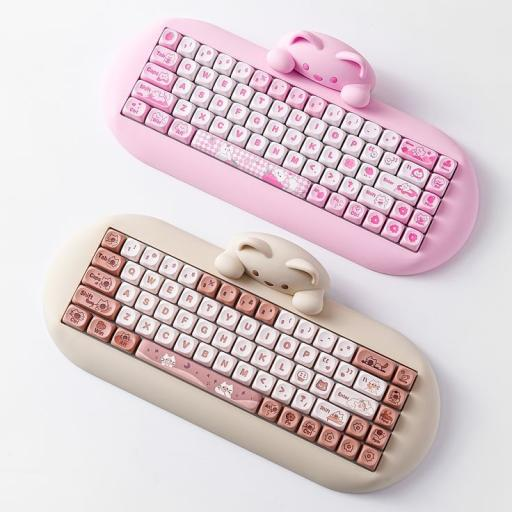keyboard: (28, 12, 490, 498)
